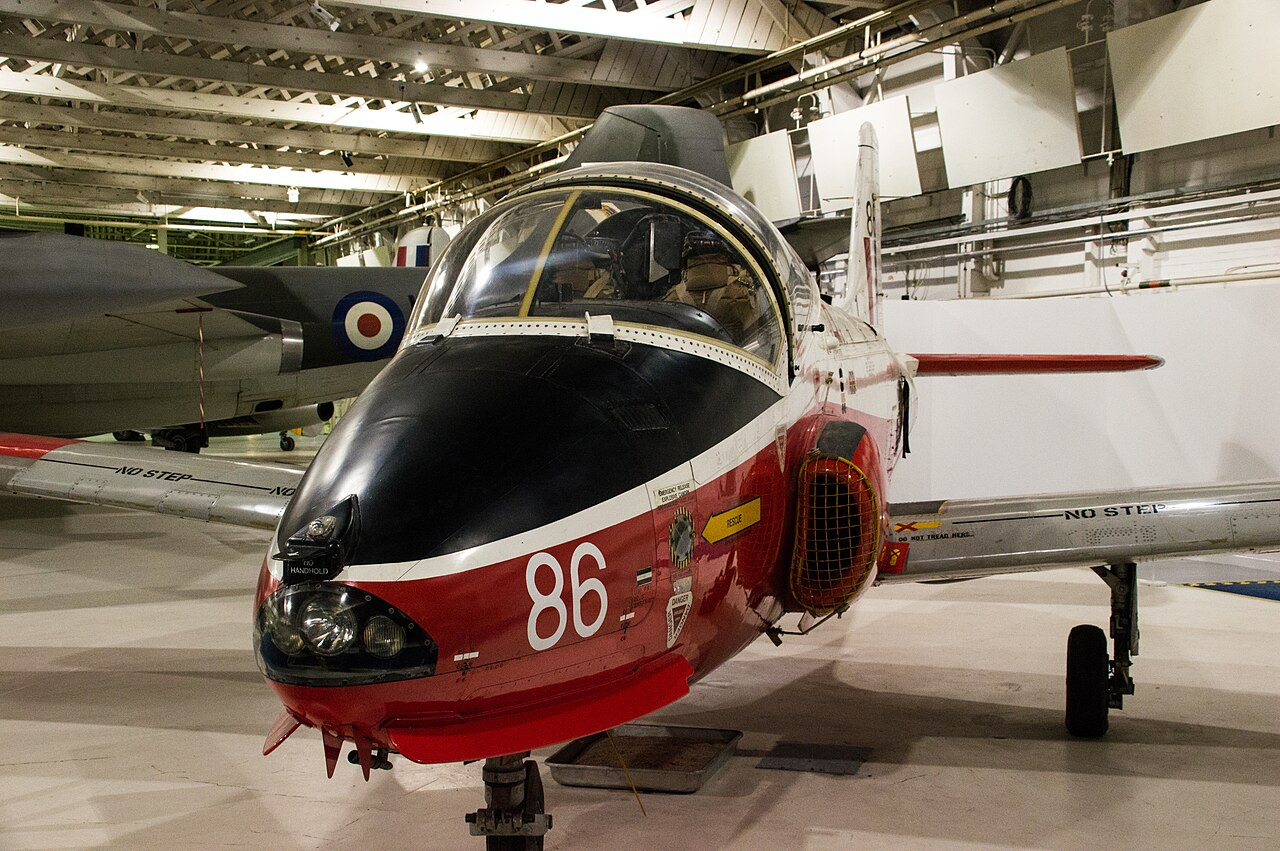aircraft: (237, 119, 1280, 830), (0, 255, 442, 460)
